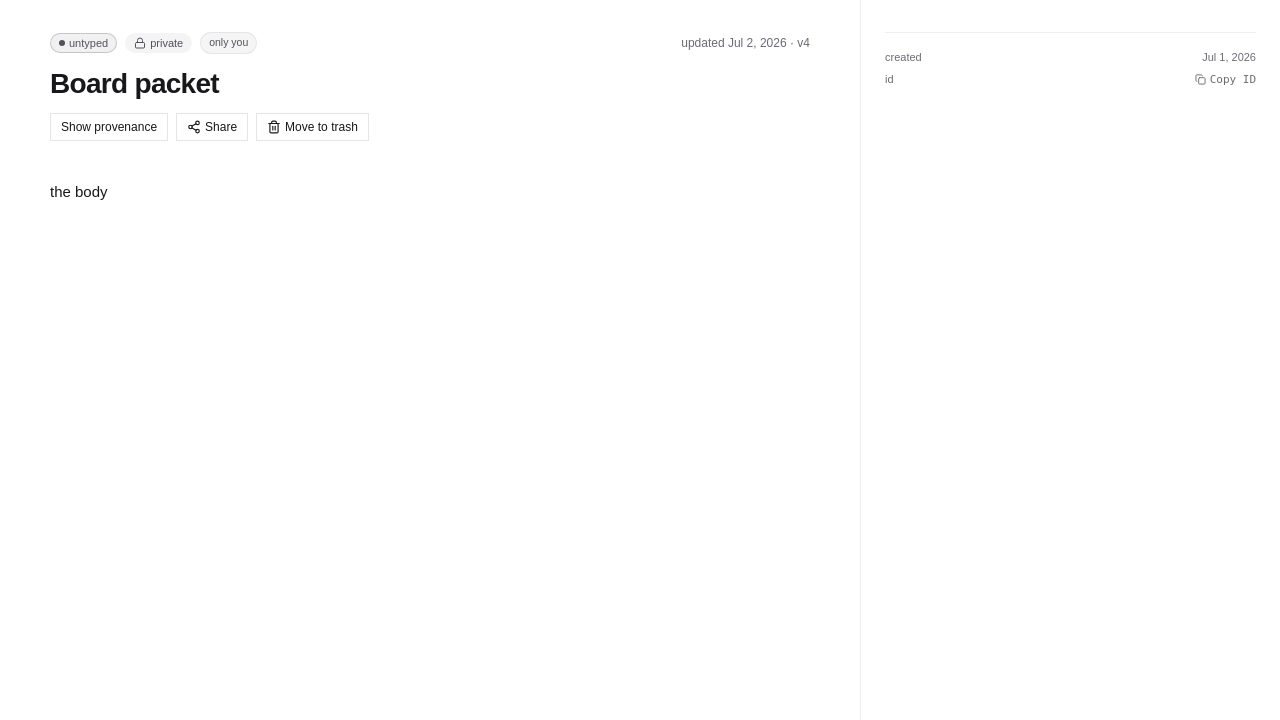
Test case: <ObjectView /> share sheet › surfaces the server's refusal verbatim inside the sheet
The image size is (1280, 720).
Check: the text box "the body" is shown, box [50,183,108,200]
Click the button "Share". click: (212, 127)
box: [176,113,248,141]
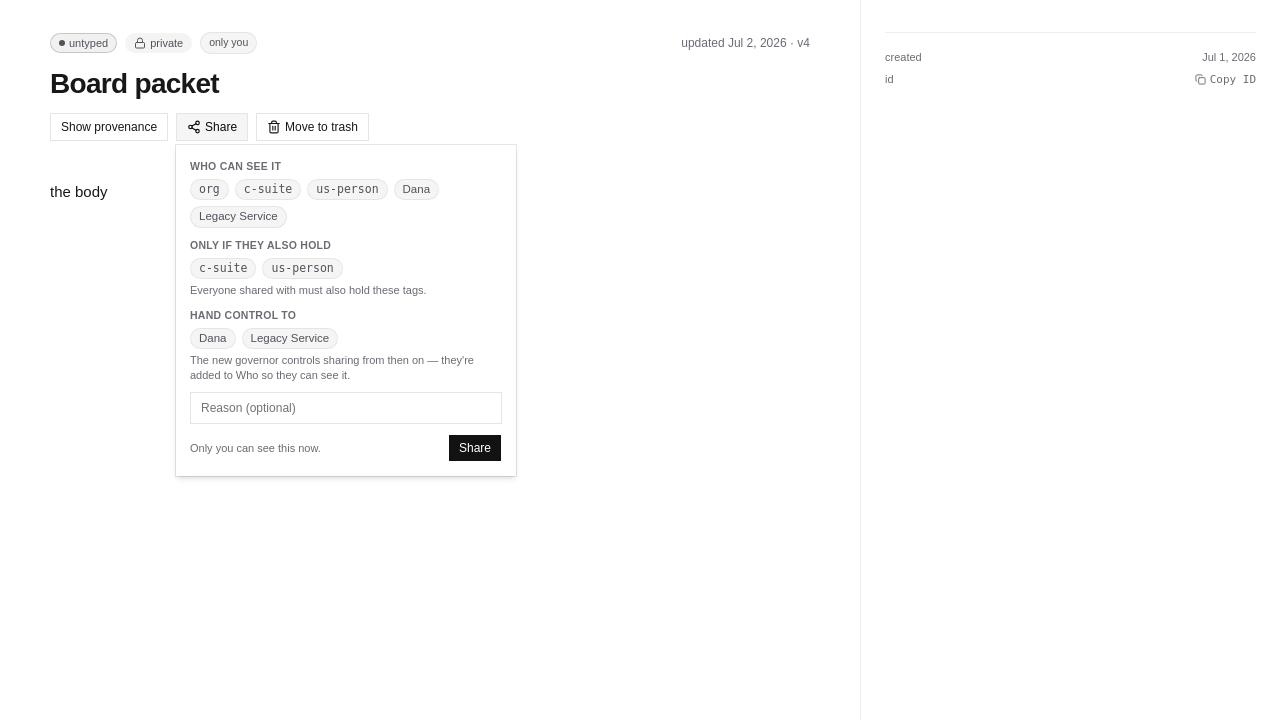
Check: the element named "Who" is shown, box [190,179,439,228]
Click the button "Share" next to "Only you can see this now.". click: (475, 448)
box: [448,434,502,462]
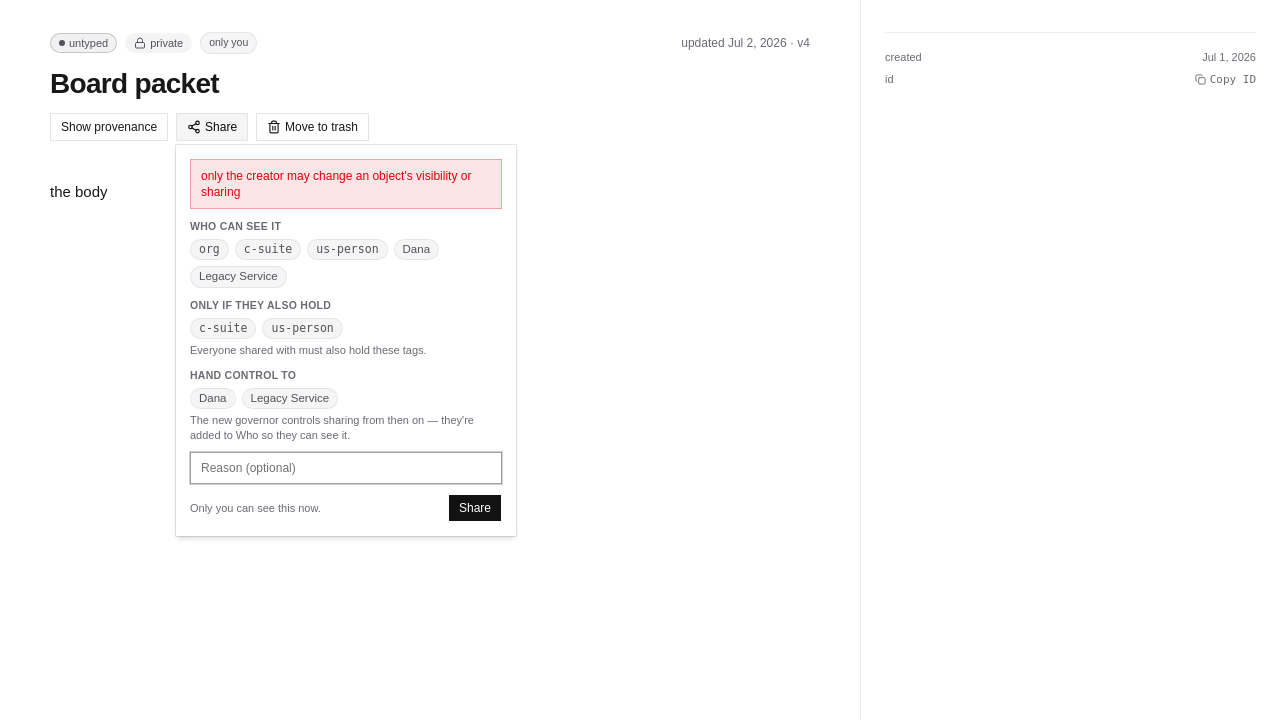
Check: the text "only the creator may change an object's visibility or sharing" is shown, box [190,159,502,209]
